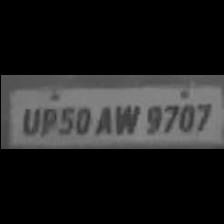0: (70, 102, 92, 136), (174, 99, 194, 133)
5: (54, 102, 74, 136)
7: (160, 99, 178, 133), (192, 98, 210, 132)
9: (140, 101, 164, 135)
A: (90, 102, 112, 136)
P: (36, 102, 56, 136)
U: (16, 102, 40, 136)
W: (110, 101, 140, 135)
